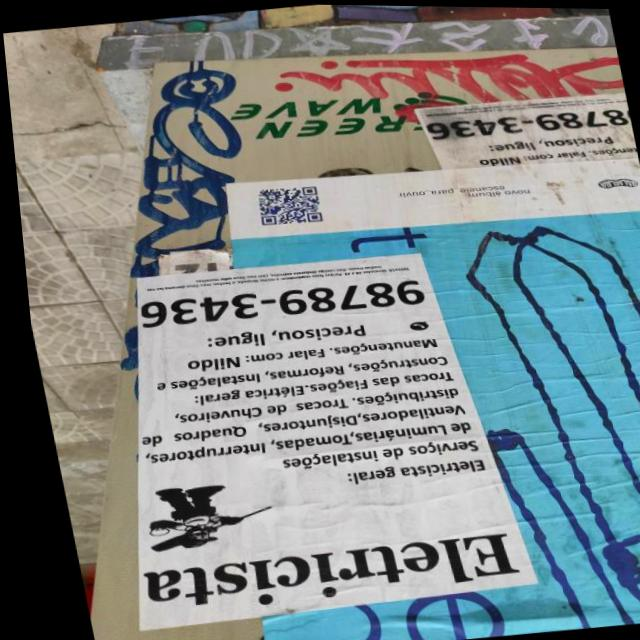qrcode: (250, 183, 319, 227)
